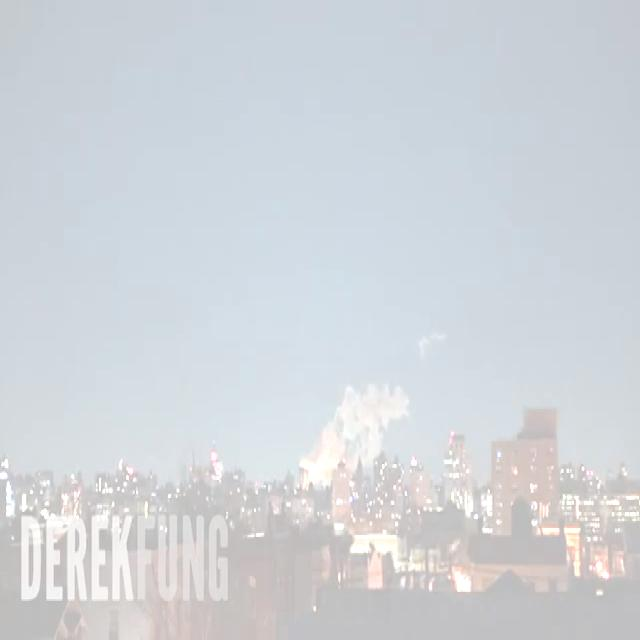smoke: (300, 384, 408, 484)
